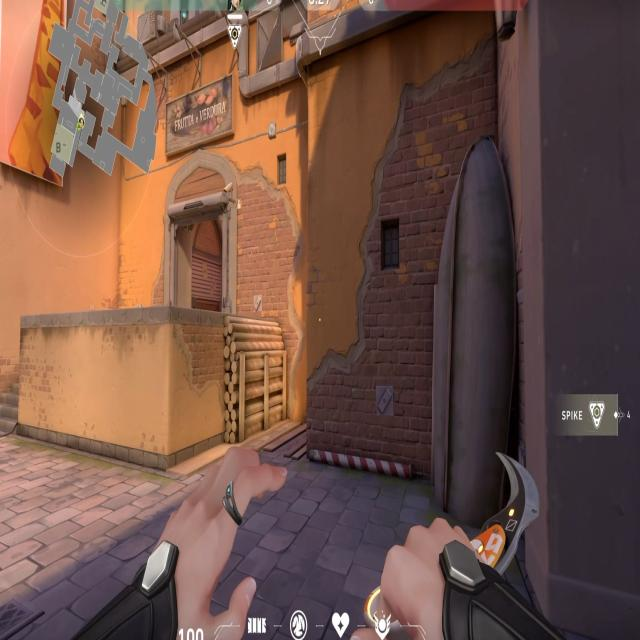B_Cubby: (161, 288, 293, 460)
